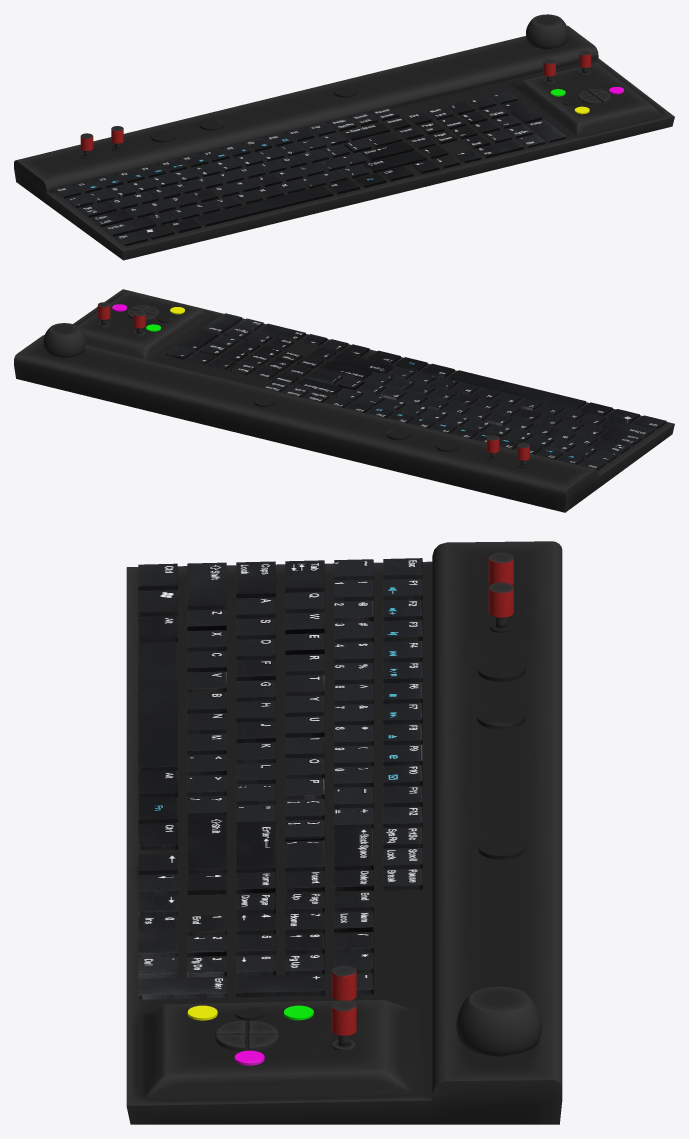
Rendered from KeyboardController.fbx.
The picture shows the model from 3 angles, top to bottom: view 1: azimuth 30°, elevation 25°; view 2: azimuth 150°, elevation 25°; view 3: azimuth 270°, elevation 25°; orthographic projection. The views are drawn at different scales.
Visible parts, largest first — view 1: KeyboardController; view 2: KeyboardController; view 3: KeyboardController.
Part boxes in pixels (box(x1,y1,x2,y2)): KeyboardController: box(14, 14, 674, 260); KeyboardController: box(14, 289, 674, 512); KeyboardController: box(126, 541, 562, 1124).
Bounding box in the file's own units: 62.04 × 5 × 21.22.
